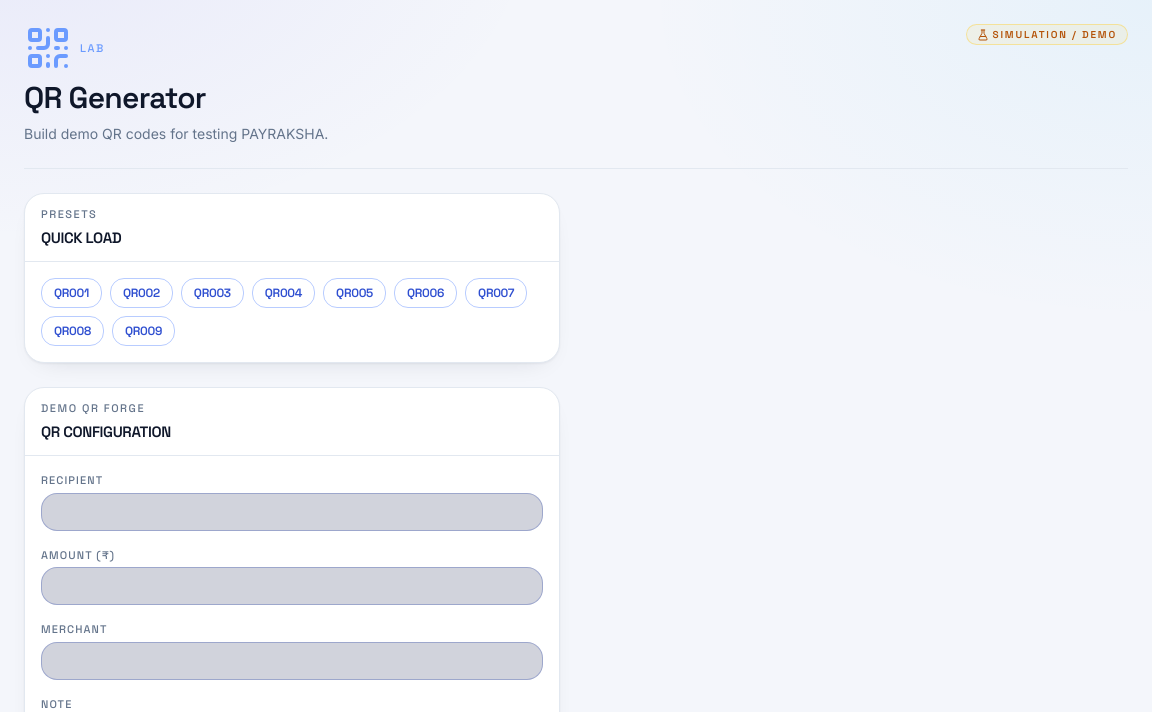
Test case: QrGenerator › validates against missing @demo
In the field labelled "Recipient": {"x": 292, "y": 512} [41,492,543,530], type "someone@okbank"
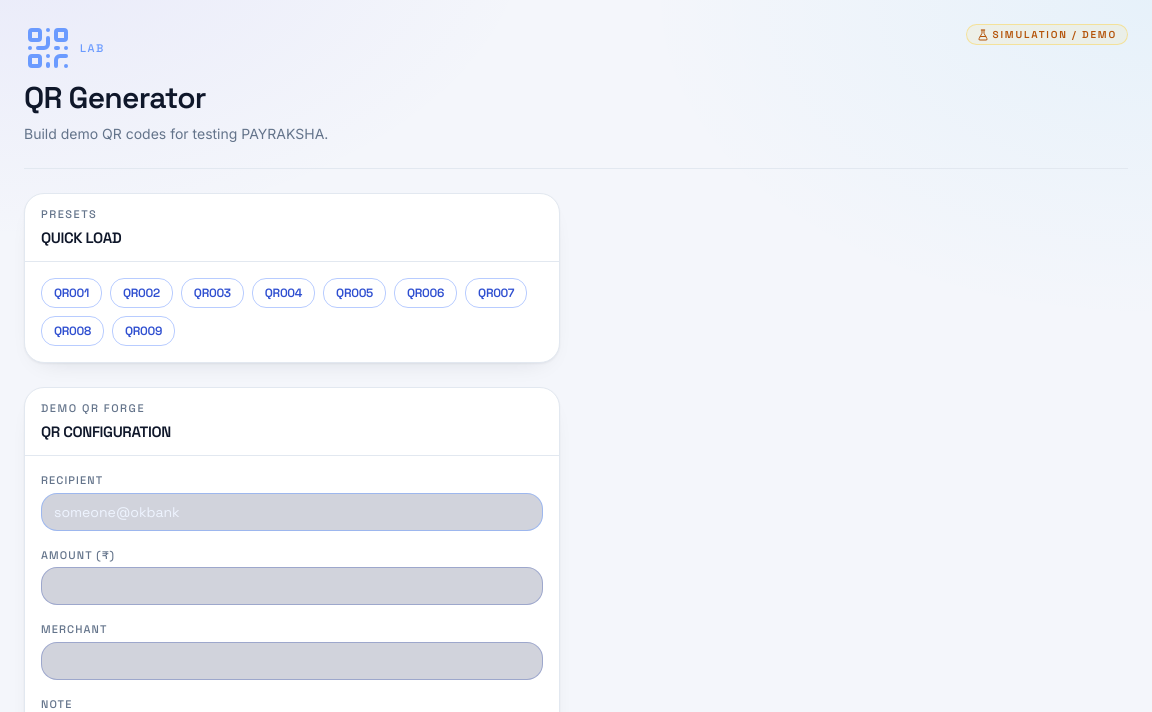
In the number field labelled "Amount (₹)": {"x": 292, "y": 586} [41,567,543,605], type "100"
(page scrolled)
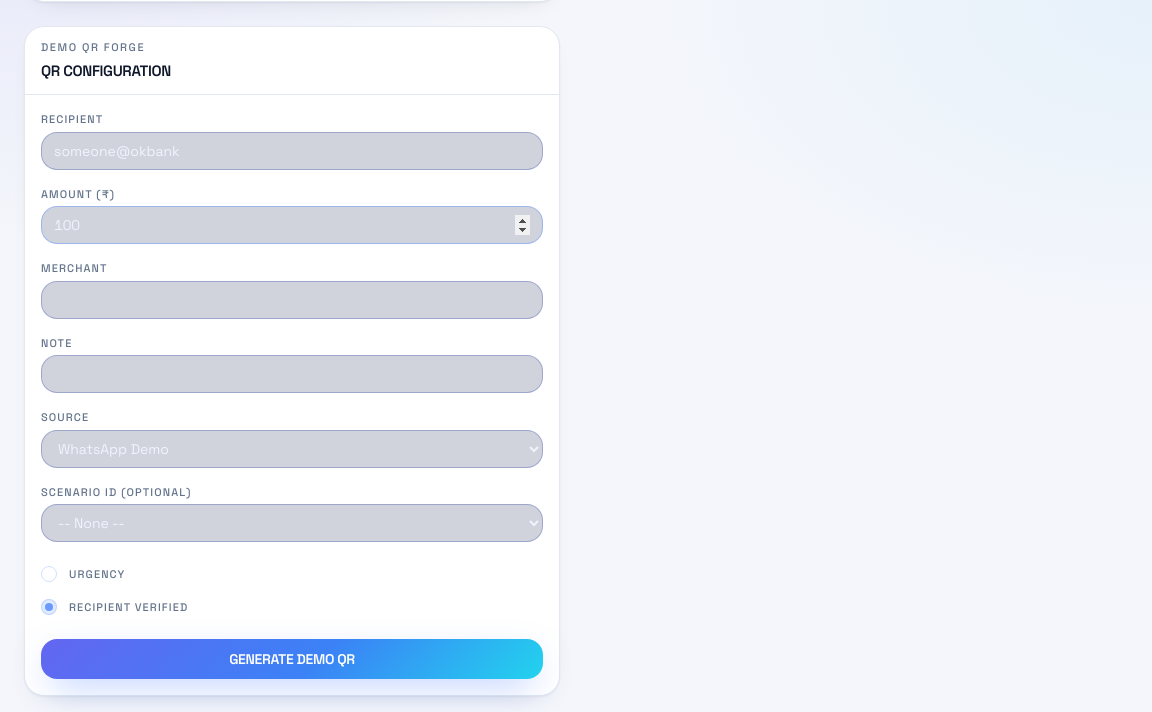
Click the button "GENERATE DEMO QR": {"x": 292, "y": 659} [41,639,543,679]
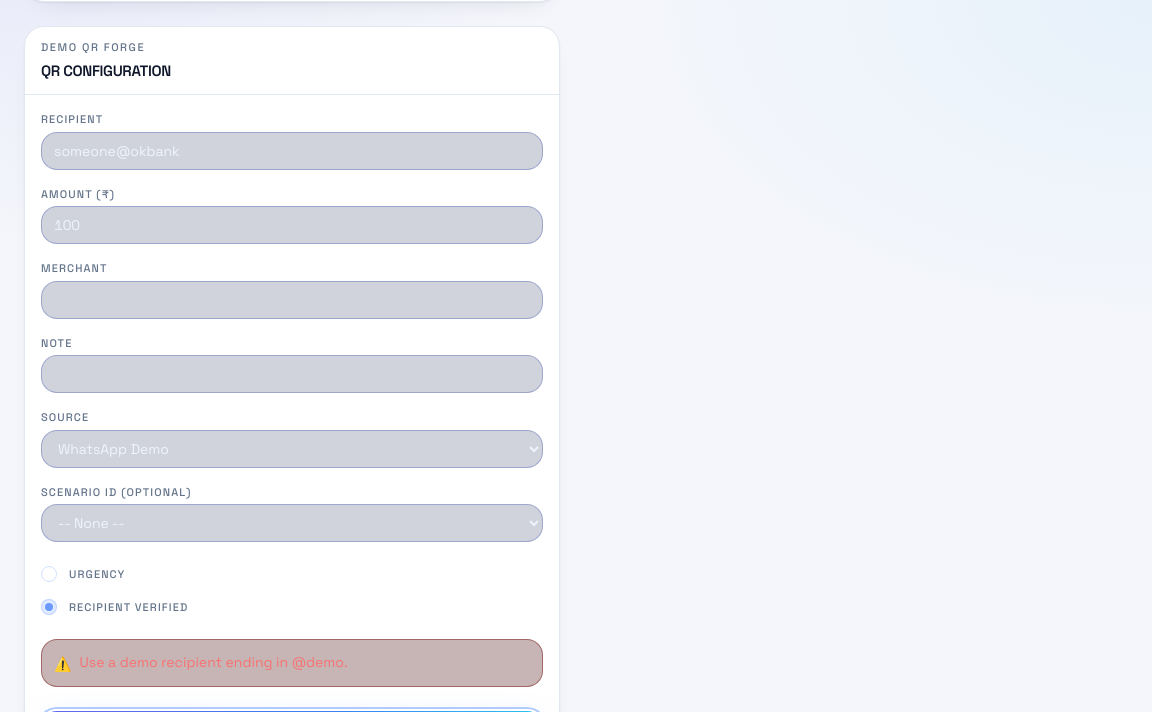
expect the message shows "Use a demo recipient ending in @demo.": met, box [80,653,348,671]
